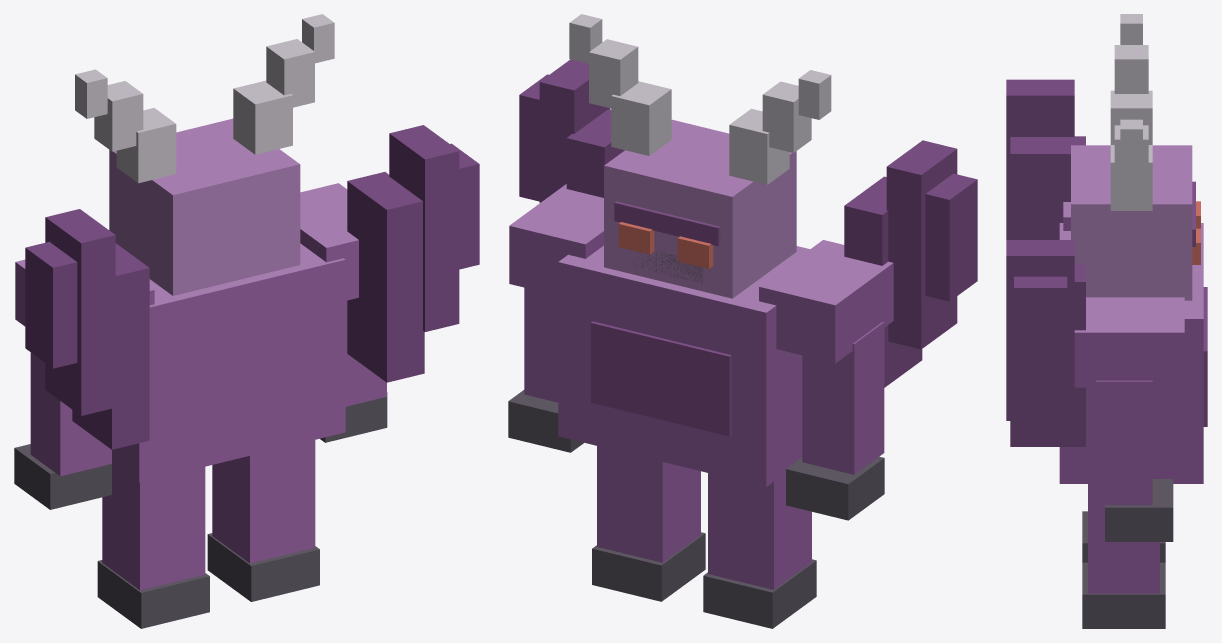
The model's file is enemy_boss.glb.
3 views of the same model, side by side, from view 1: azimuth 30°, elevation 25°; view 2: azimuth 150°, elevation 25°; view 3: azimuth 270°, elevation 25° (orthographic). The views are drawn at different scales.
Visible parts, largest first — view 1: mesh0; view 2: mesh0; view 3: mesh0.
Boxes of the visible parts, left/top/right/bottom form: mesh0: left=14, top=14, right=479, bottom=628; mesh0: left=508, top=14, right=977, bottom=628; mesh0: left=1006, top=14, right=1207, bottom=628.
Bounding box in the file's own units: 1.24 × 1.5 × 0.53.
